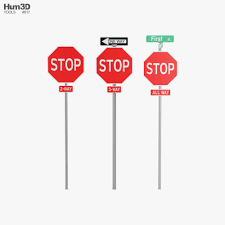SS: (95, 46, 134, 84), (47, 46, 84, 83), (142, 51, 178, 86)
